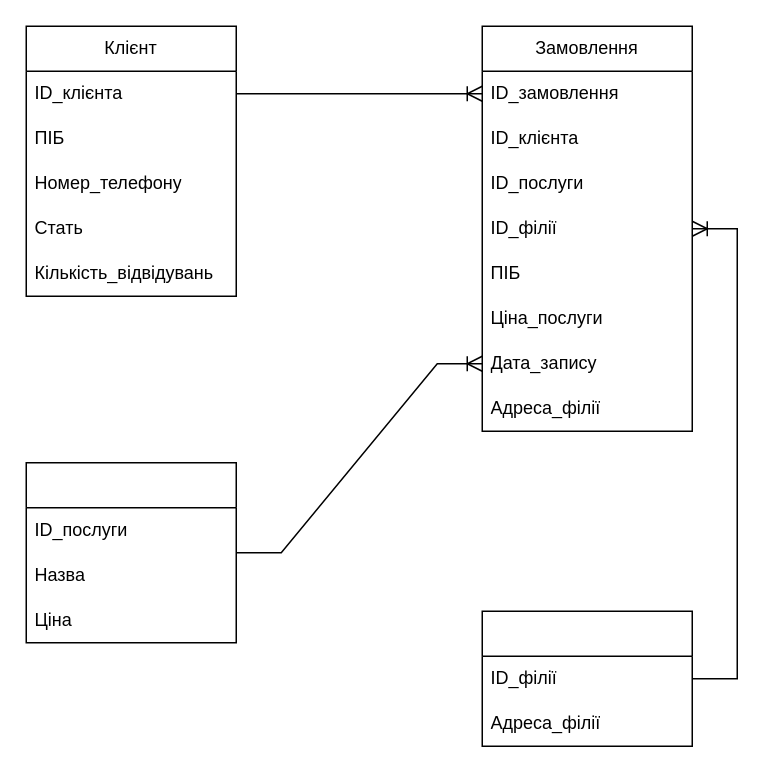
This 779x773 diagram has some shape labels left out. Here are the shapes that lost their labels. From the top down, the box of each, then its label:
(25, 461, 236, 643): Послуга
(481, 610, 692, 746): Філія
